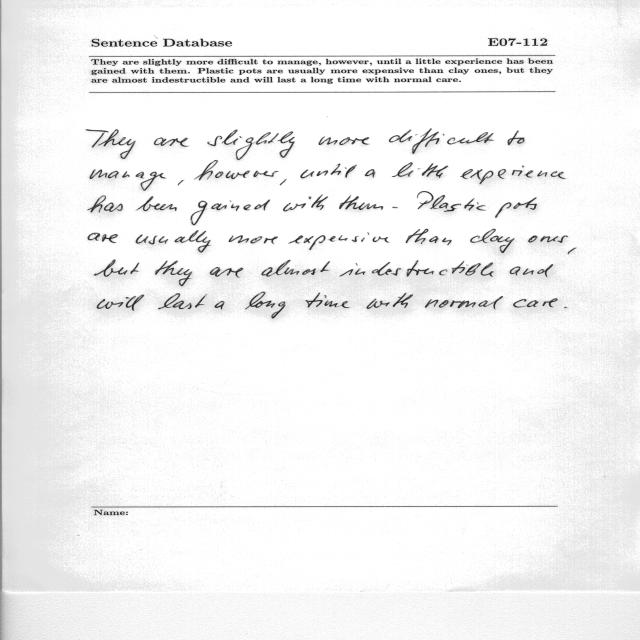word: (207, 130, 295, 160), (339, 260, 494, 277), (389, 129, 494, 154), (191, 200, 270, 226), (460, 166, 565, 185), (289, 232, 390, 250), (136, 230, 211, 253), (90, 169, 166, 191), (195, 161, 278, 181), (86, 129, 136, 159), (417, 191, 486, 212), (261, 260, 330, 277), (470, 229, 515, 253), (245, 292, 286, 318), (425, 296, 503, 309), (155, 261, 192, 286), (392, 162, 448, 178), (495, 197, 537, 218), (300, 164, 357, 178), (158, 293, 207, 309), (283, 195, 328, 212), (94, 260, 139, 277), (97, 295, 144, 311), (406, 229, 452, 245), (367, 293, 413, 309), (306, 293, 350, 308), (339, 196, 383, 210), (136, 196, 177, 211), (88, 196, 123, 213), (510, 264, 553, 277), (513, 298, 558, 308), (229, 235, 278, 244), (319, 137, 369, 145), (210, 267, 243, 278), (528, 235, 568, 243), (154, 138, 189, 147), (88, 233, 118, 243), (508, 131, 525, 145), (365, 169, 376, 178), (215, 301, 225, 309), (568, 248, 576, 255), (178, 180, 184, 186), (280, 179, 286, 185), (392, 207, 398, 208), (564, 307, 568, 308)
